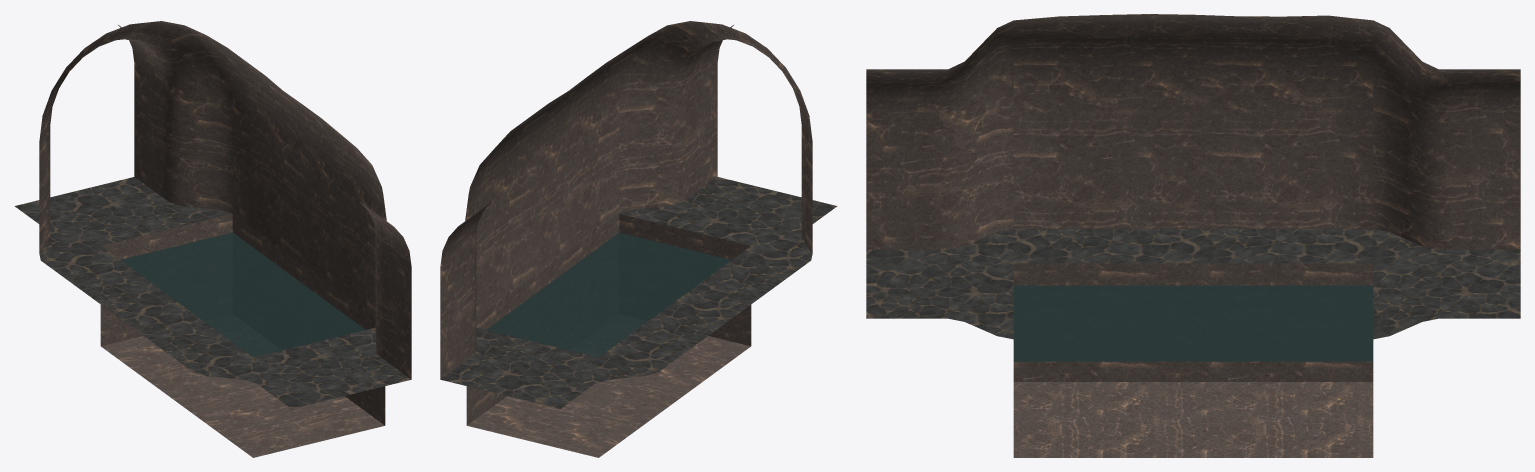
File: hall-canal.gltf
3 views of the same model, side by side, from view 1: azimuth 30°, elevation 25°; view 2: azimuth 150°, elevation 25°; view 3: azimuth 270°, elevation 25° (orthographic). The views are drawn at different scales.
Parts seen in each view (by area): view 1: hall-canal-mesh, hall-canal-water; view 2: hall-canal-mesh, hall-canal-water; view 3: hall-canal-mesh, hall-canal-water.
Boxes of the visible parts, x1,y1,x2,y2 form: hall-canal-mesh: (14, 21, 411, 457); hall-canal-water: (120, 232, 365, 357); hall-canal-mesh: (440, 21, 837, 457); hall-canal-water: (486, 232, 731, 357); hall-canal-mesh: (866, 14, 1520, 457); hall-canal-water: (1013, 285, 1373, 361).
Size of the model in its own units: 3.35 by 5.07 by 8.
Materials: 3 (2 with a texture image).
